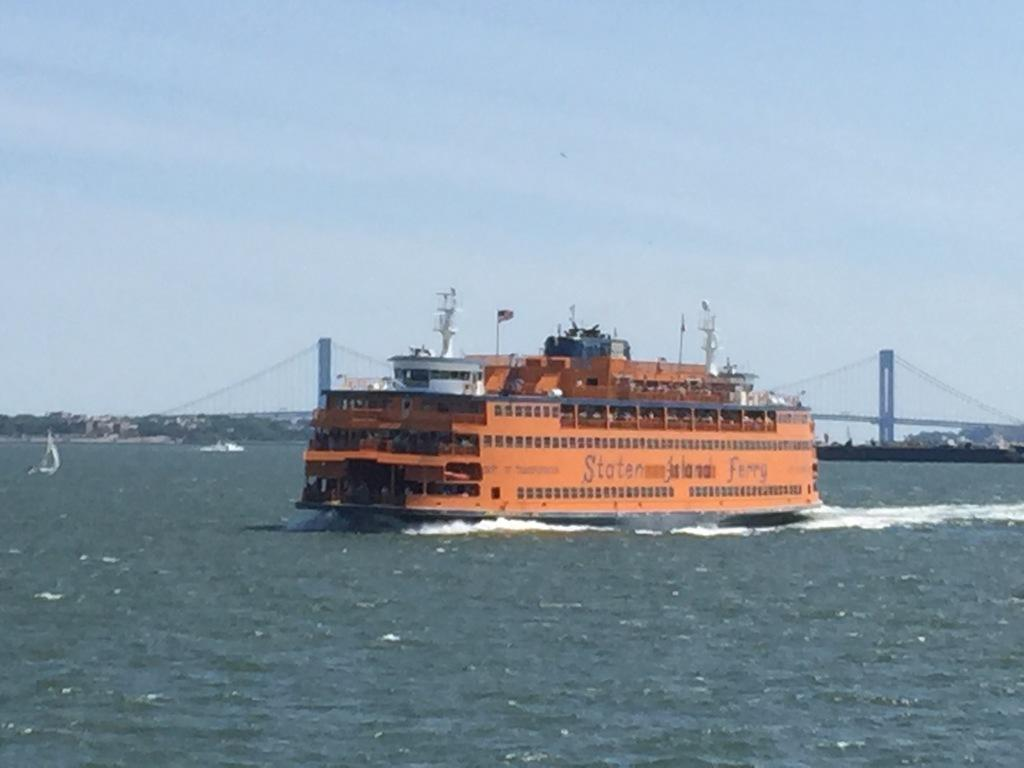PassengerShip: (296, 298, 832, 540)
